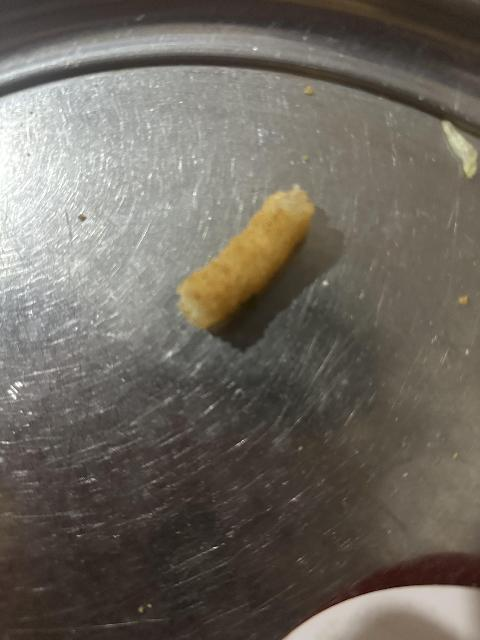Organik: (163, 178, 321, 335), (441, 121, 480, 173)
